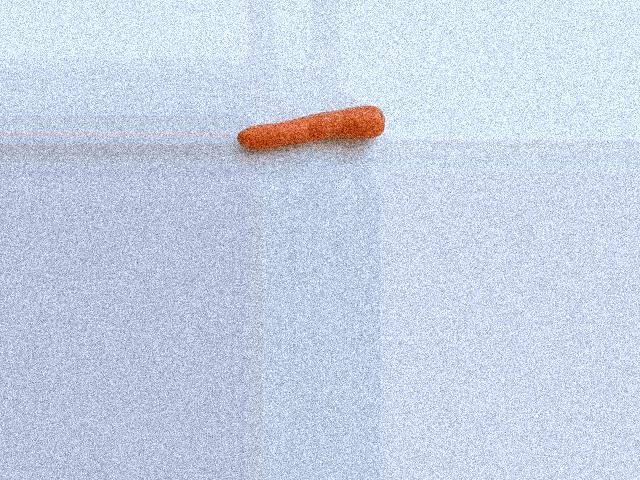carrot: (238, 105, 385, 151)
